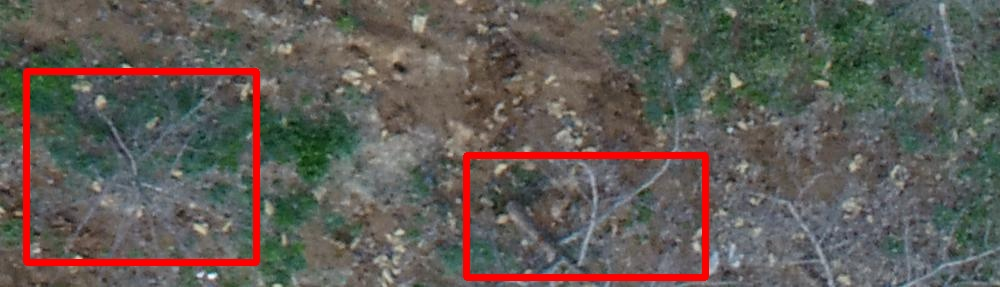apple: (26, 71, 256, 262), (466, 155, 705, 277)
